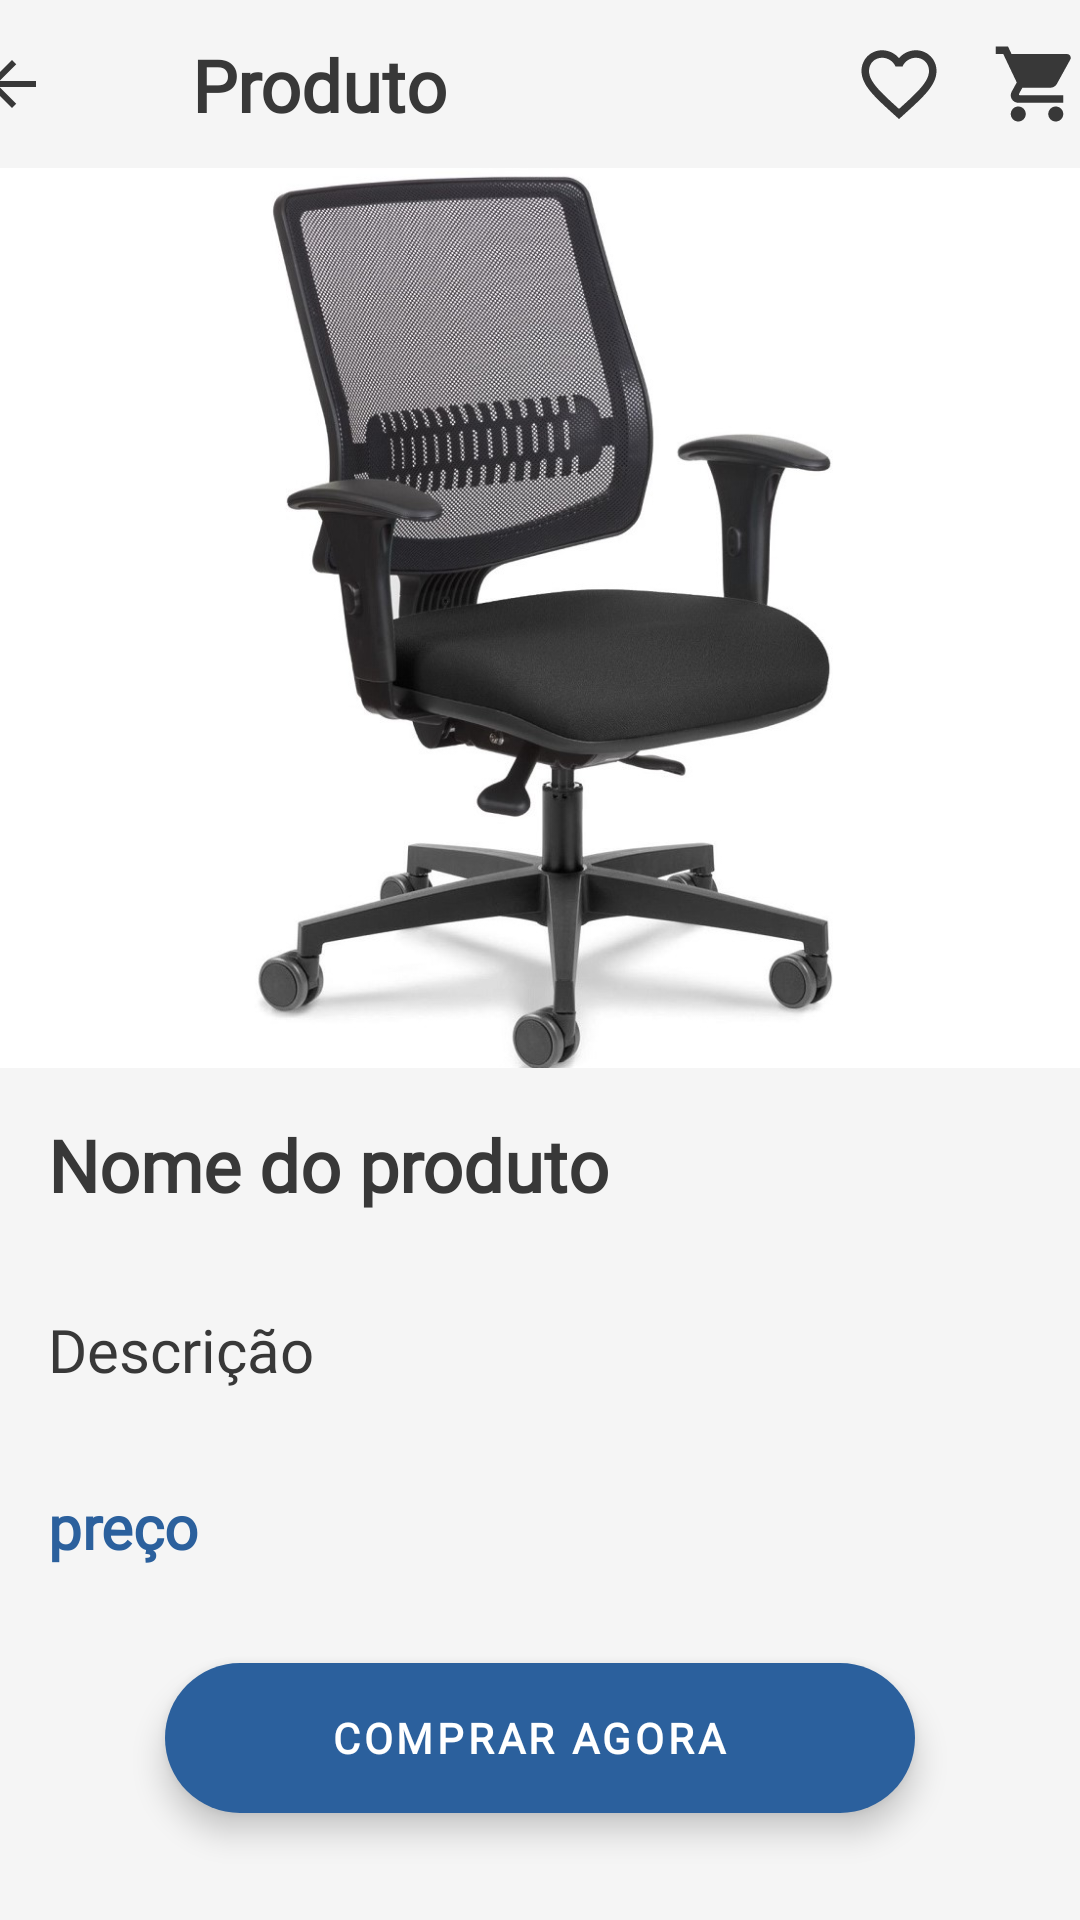

Where to tap for icons on this 1080x1920 app screen, as point (x, y):
colocou carrinho compra: point (1033, 84)
nao favorito: point (899, 84)
